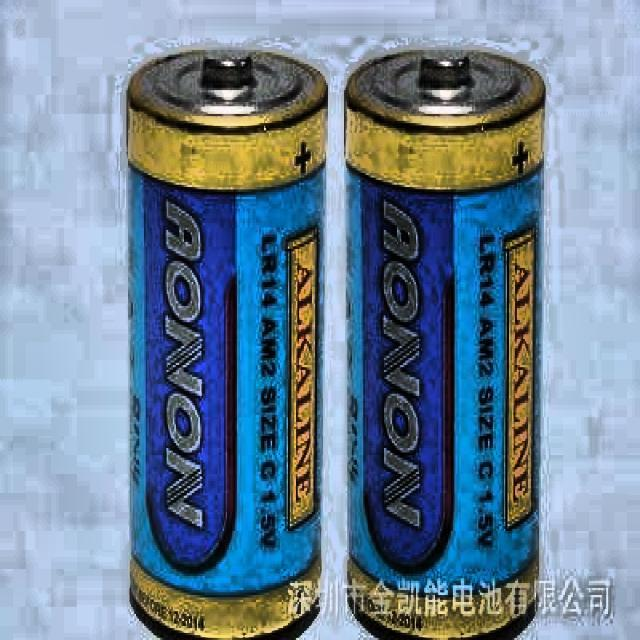battery: (128, 50, 328, 636), (345, 50, 545, 636)
